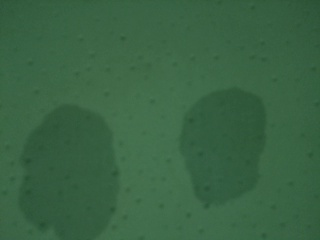Water_detected: (31, 118, 107, 228), (179, 104, 238, 185)
